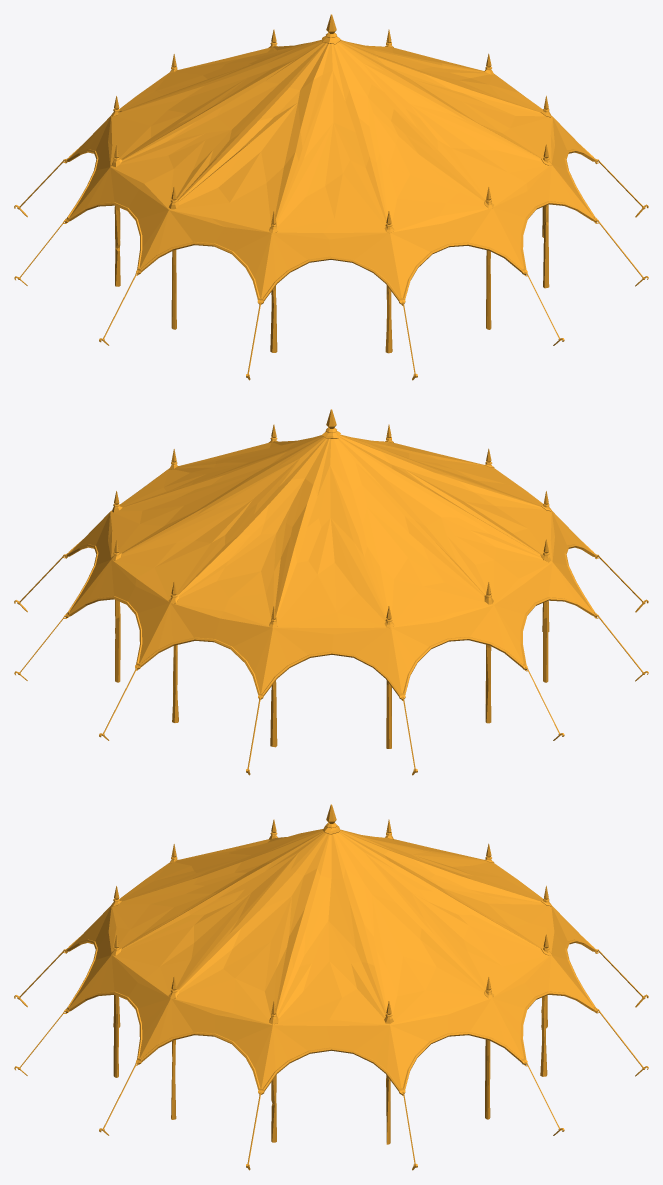
File: SM_Tent_Dodecagon_Plain_Construct_B_Roof_Fantasy.fbx
3 renders of one model, top to bottom at view 1: azimuth 30°, elevation 25°; view 2: azimuth 150°, elevation 25°; view 3: azimuth 270°, elevation 25°, orthographic.
Parts seen in each view (by area): view 1: tent-dodecagon-plain-construct-b-roof-fantasy; view 2: tent-dodecagon-plain-construct-b-roof-fantasy; view 3: tent-dodecagon-plain-construct-b-roof-fantasy.
Part boxes in pixels (bbox=[...]): tent-dodecagon-plain-construct-b-roof-fantasy: bbox=[14, 14, 648, 380]; tent-dodecagon-plain-construct-b-roof-fantasy: bbox=[14, 409, 648, 775]; tent-dodecagon-plain-construct-b-roof-fantasy: bbox=[14, 804, 648, 1170].
Bounding box in the file's own units: 13.89 × 6 × 13.89.
